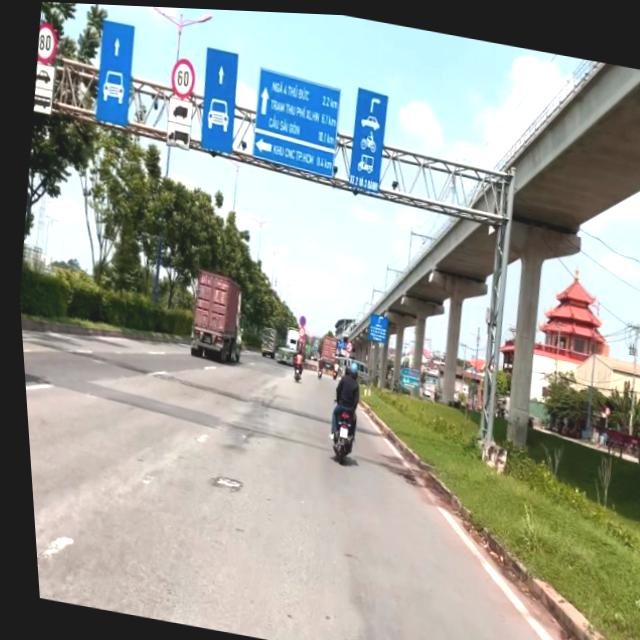Toc do toi da cho phep: (168, 55, 199, 96), (34, 19, 62, 64)
